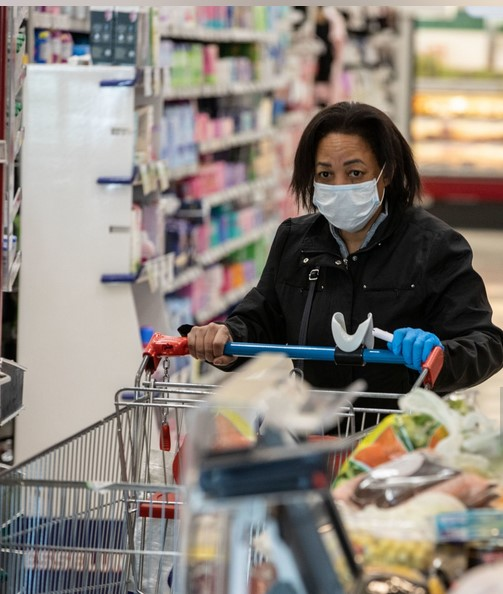face_with_mask: (310, 107, 396, 233)
